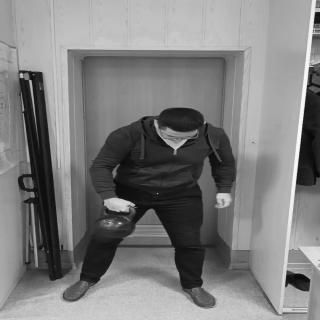kettlebell: (91, 206, 138, 240)
